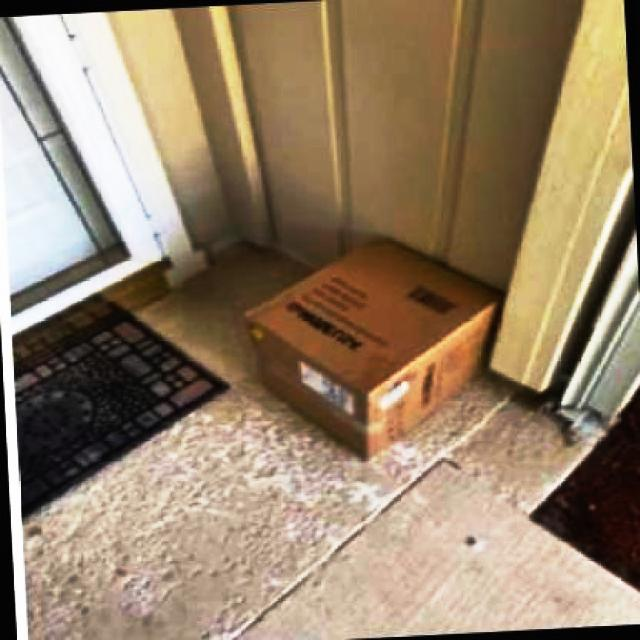Box: (240, 226, 512, 468)
